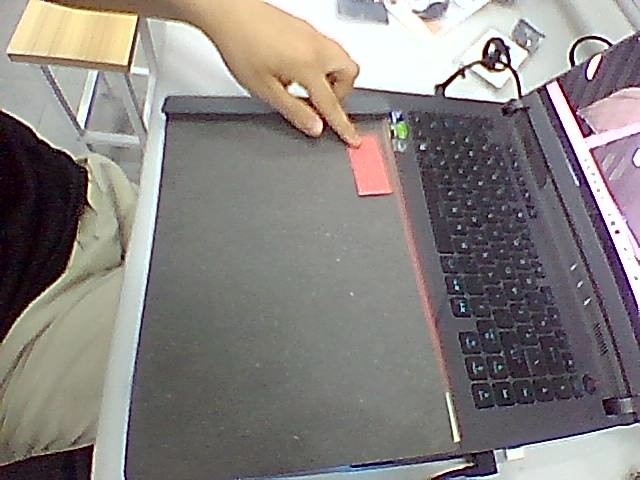card: (349, 134, 391, 194)
